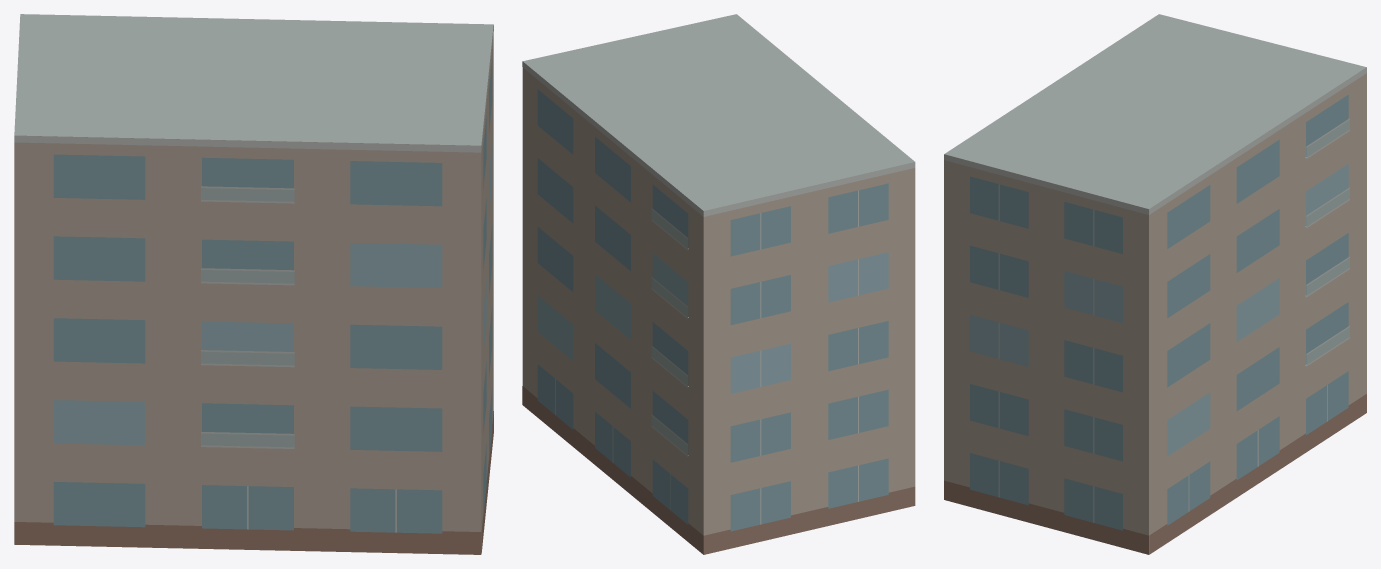
The model's file is survey-upis-32887073.glb.
3 renders of one model, left to right at view 1: azimuth 30°, elevation 25°; view 2: azimuth 150°, elevation 25°; view 3: azimuth 270°, elevation 25°, orthographic. The views are drawn at different scales.
Parts seen in each view (by area): view 1: survey-upis-32887073.tmp; view 2: survey-upis-32887073.tmp; view 3: survey-upis-32887073.tmp.
Part boxes in pixels (x1=…): survey-upis-32887073.tmp: x1=14, y1=14, x2=493, y2=554; survey-upis-32887073.tmp: x1=522, y1=14, x2=915, y2=554; survey-upis-32887073.tmp: x1=944, y1=14, x2=1366, y2=554.
Size of the model in its own units: 17.36 by 14.33 by 15.89.
